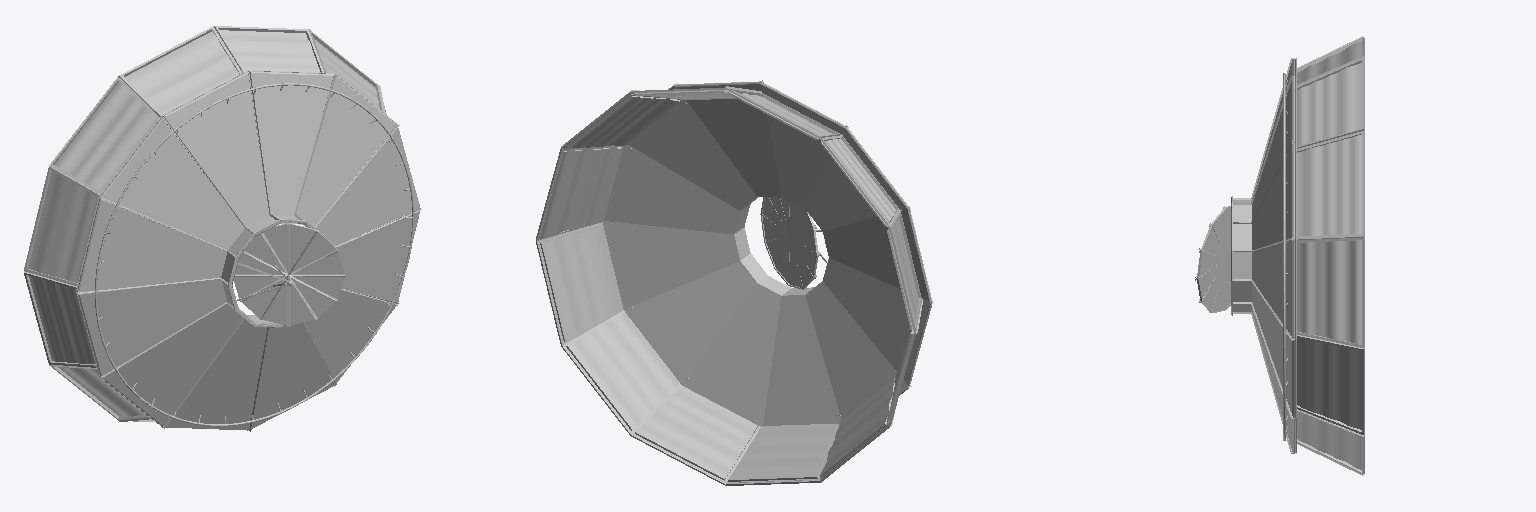
File: 1972_Ecological House.obj
3 renders of one model, left to right at view 1: azimuth 30°, elevation 25°; view 2: azimuth 150°, elevation 25°; view 3: azimuth 270°, elevation 25°, orthographic.
Visible parts, largest first — view 1: walls; view 2: walls; view 3: walls.
Boxes of the visible parts, box(x1,y1,x2,y2) form: walls: box(24, 26, 421, 431); walls: box(536, 80, 933, 485); walls: box(1195, 36, 1364, 475).
Bounding box in the file's own units: 275 × 275 × 106.